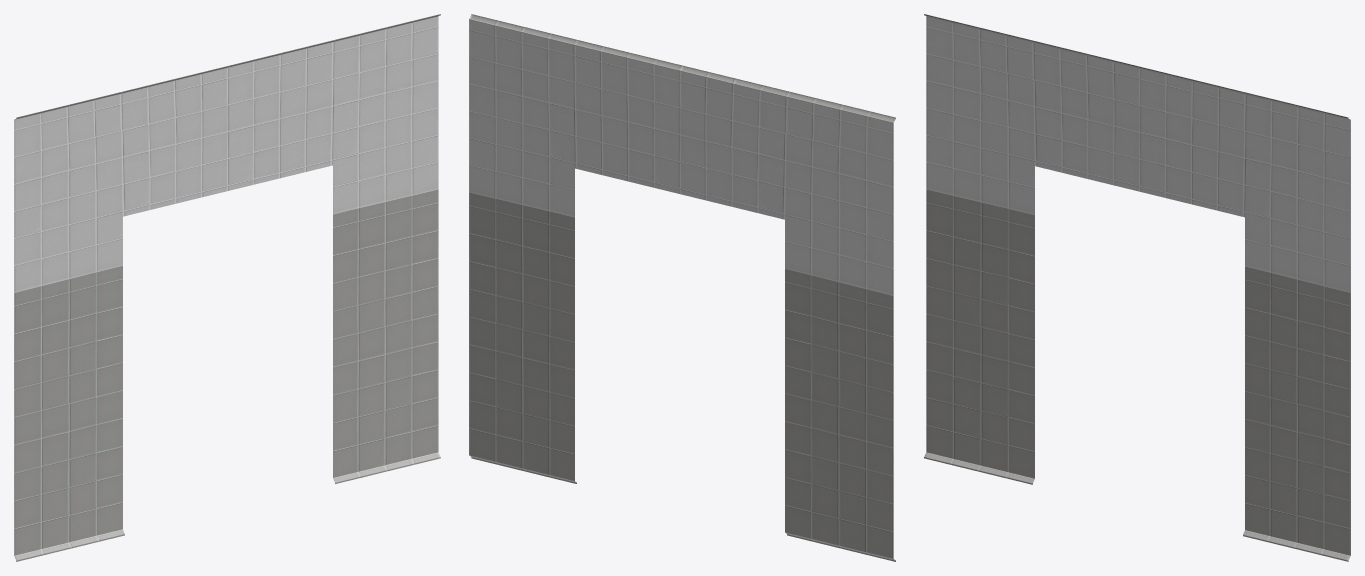
Rendered from bathroom_flat_doorway.dae.
3 renders of one model, left to right at view 1: azimuth 30°, elevation 25°; view 2: azimuth 150°, elevation 25°; view 3: azimuth 330°, elevation 25°, orthographic.
Visible parts, largest first — view 1: polySurface30; view 2: polySurface30; view 3: polySurface30.
Part boxes in pixels (x1,y1,x2,y2): polySurface30: (14, 14, 440, 561); polySurface30: (469, 14, 895, 561); polySurface30: (924, 14, 1350, 561).
Bounding box in the file's own units: 4 × 4 × 0.0341.
